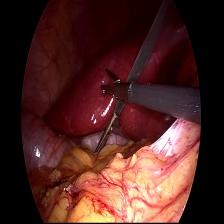Grasper: (100, 67, 132, 105), (93, 114, 119, 154)
